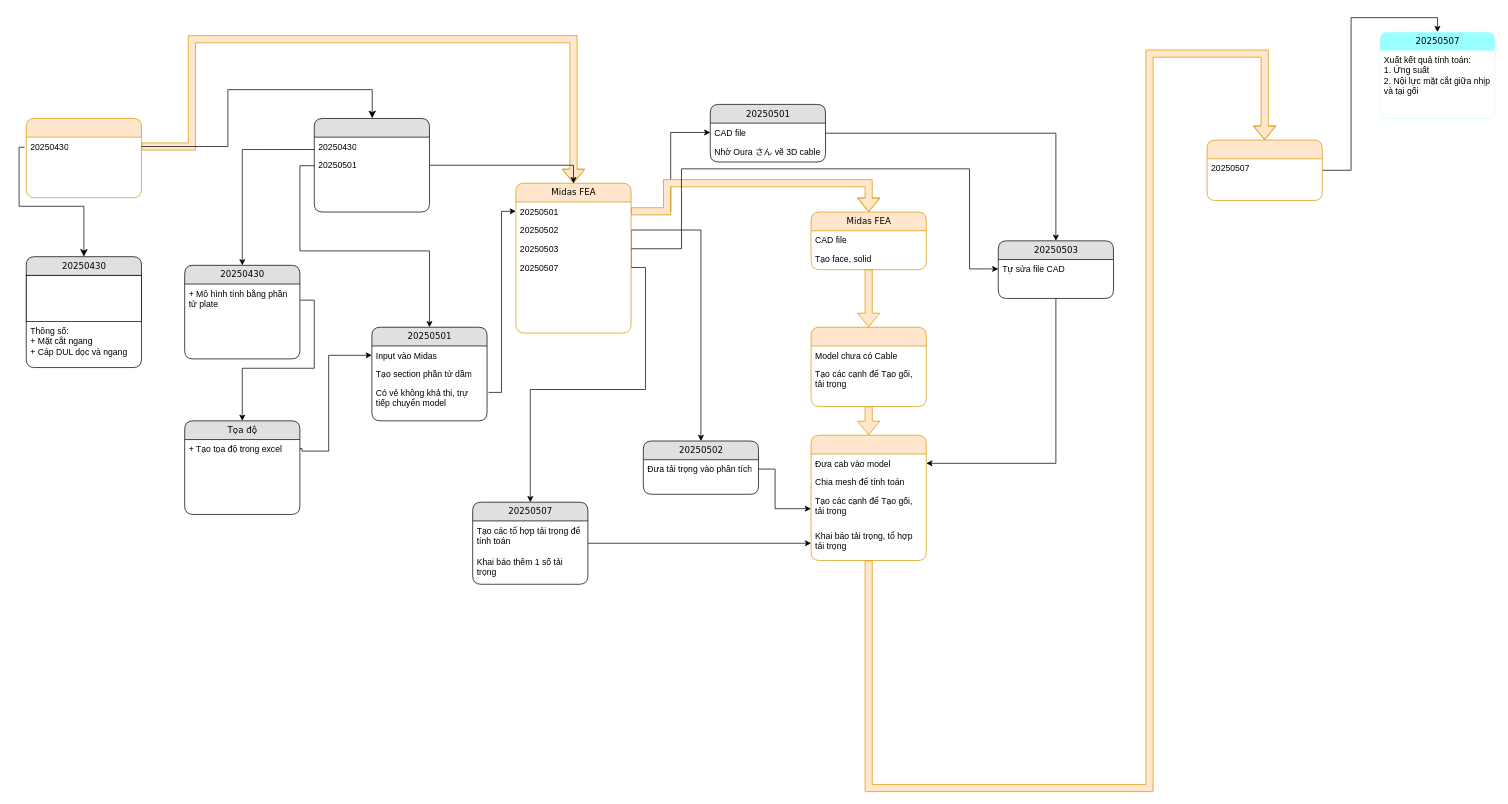
Image size: 1508x804. Some labels were removed from this diagram. The shapes that lost their labels are listed below. From the top down, each one's box as (x1, y1, x2, y2) in pixels, then its label:
(26, 118, 141, 198): Input
(314, 118, 429, 212): Midas
(1206, 139, 1322, 201): Results
(26, 275, 141, 321): Yêu cầu: + Nội lực bản Vị trí gần mép của dầm + Tính ứng suất
(810, 327, 926, 406): Midas FEA Ex1
(810, 435, 926, 561): Midas FEA Ex2
